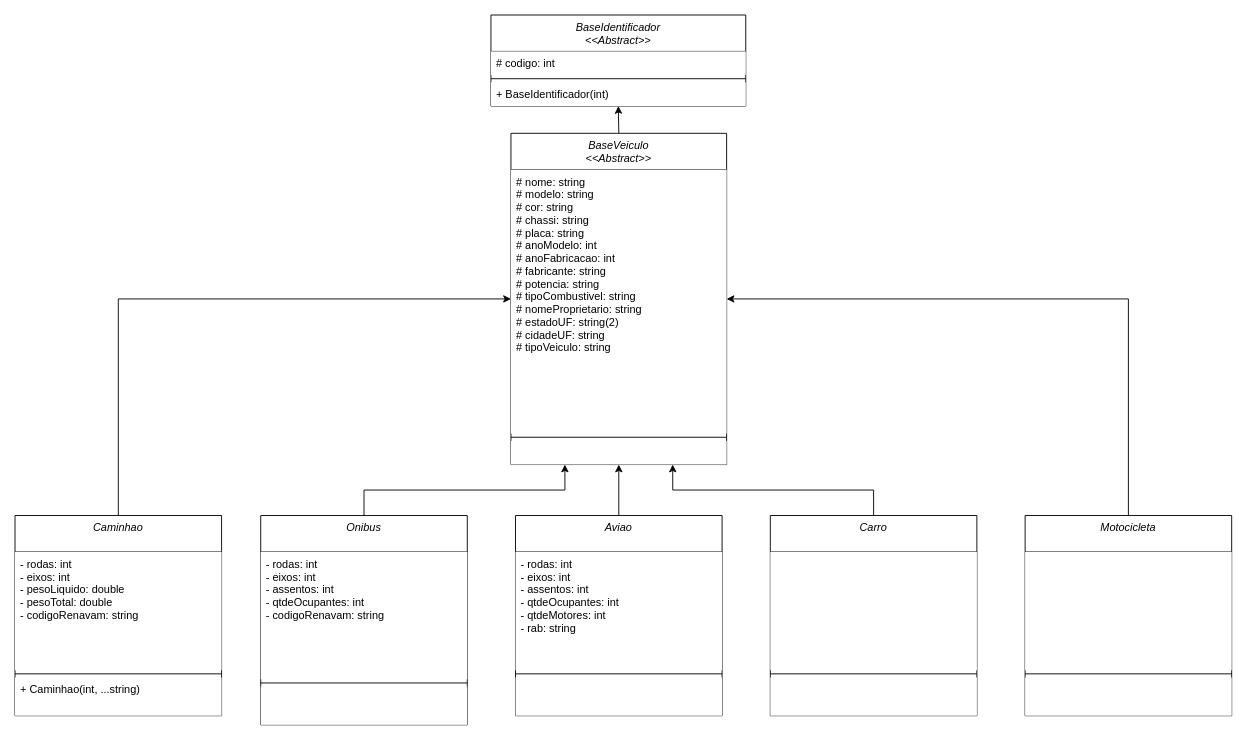
The diagram is 1247 pixels wide and 740 high, and some of its shapes have lost their labels. The shapes that lost their labels are listed below. From the top down, each one's box as (x1, y1, x2, y2) in pixels, then its label:
(511, 440, 726, 464): + BaseVeículo(int, ...string)
(770, 551, 976, 670): - portas: int - assentos: int - codigoRenavam: string
(1025, 551, 1231, 670): - codigoRenavam: string
(260, 686, 467, 724): + Onibus(int, ...string)
(515, 677, 722, 715): + Aviao(int, ...string)
(770, 677, 976, 715): + Carro(int, ...string)
(1025, 677, 1231, 715): + Motocicleta(int, ...string)
